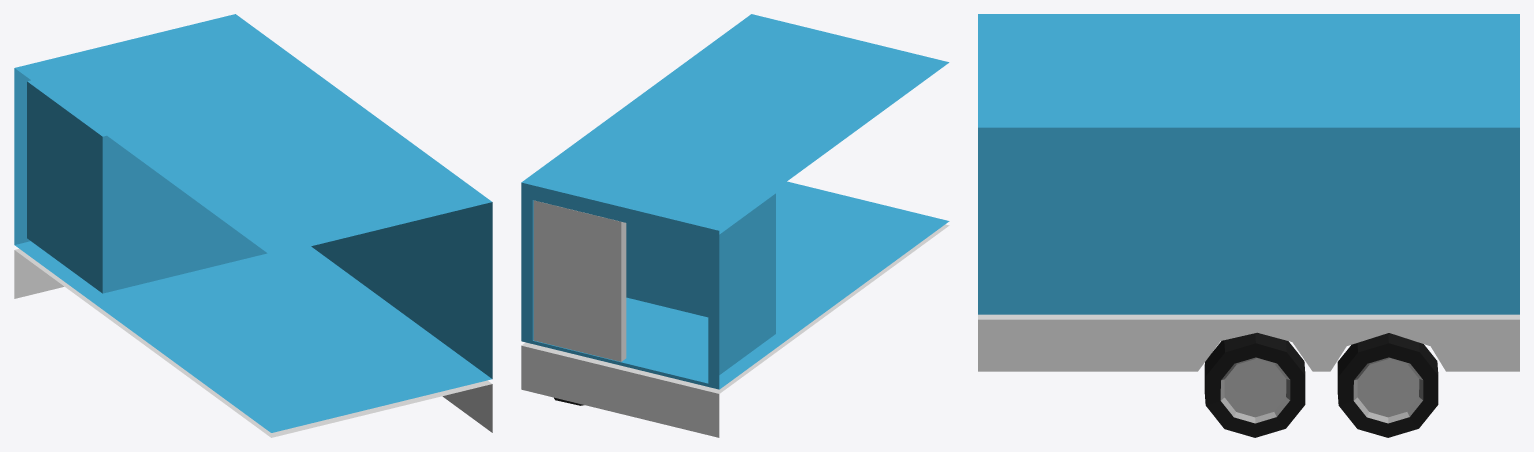
File: Vrachtwagen.fbx
The picture shows the model from 3 angles, left to right: view 1: azimuth 30°, elevation 25°; view 2: azimuth 150°, elevation 25°; view 3: azimuth 270°, elevation 25°; orthographic projection. The views are drawn at different scales.
Parts seen in each view (by area): view 1: Container; view 2: Container, Deur; view 3: Container, Wiel 2, Wiel 1.
Boxes of the visible parts, x1=… form: Container: x1=14, y1=14, x2=492, y2=437; Container: x1=521, y1=14, x2=949, y2=437; Deur: x1=533, y1=200, x2=626, y2=361; Container: x1=978, y1=14, x2=1519, y2=371; Wiel 2: x1=1204, y1=332, x2=1305, y2=437; Wiel 1: x1=1337, y1=333, x2=1438, y2=437.
Bounding box in the file's own units: 304 × 359 × 579.
